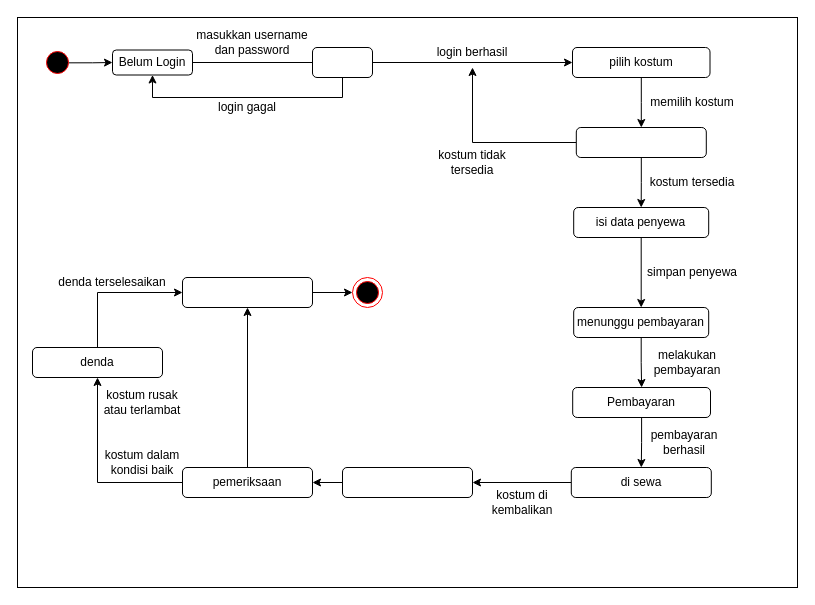
The diagram is 815 pixels wide and 605 high, and some of its shapes have lost their labels. Each missing label, with the centre of its shape:
"cek ketersediaan" goes at [640,142].
"Login" goes at [342,62].
"pengambilan" goes at [407,482].
"selesai" goes at [247,292].
